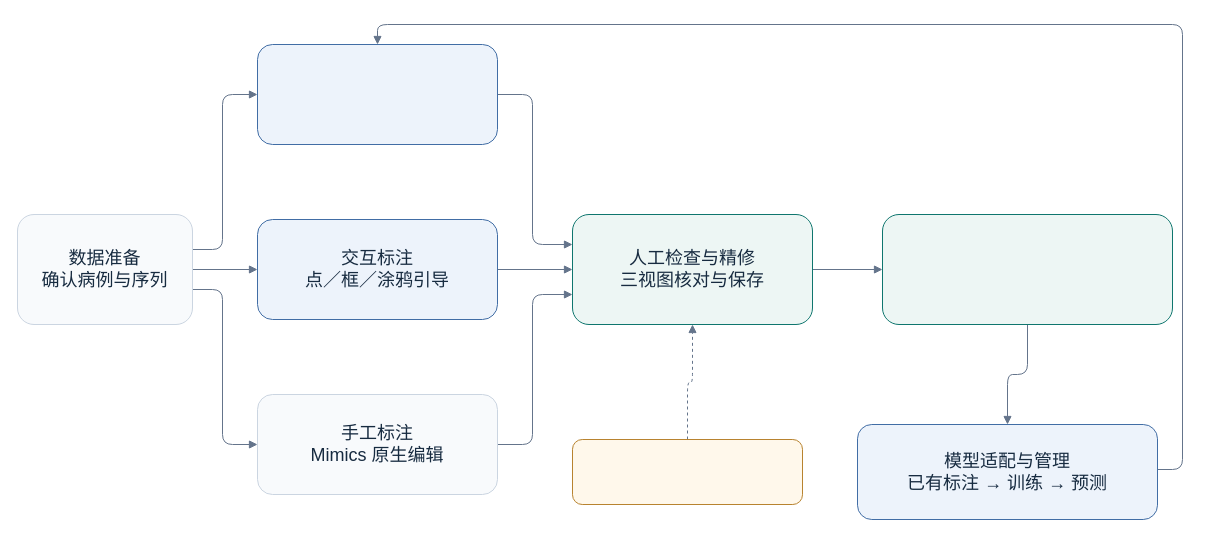
Image size: 1208x537. Some labels were removed from this diagram. The centre of each missing label's shape, as x and y in pixels:
"完善复核与训练准入" belongs at point (687, 471).
"批量草稿 适用模型自动预测" belongs at point (377, 94).
"确认后导出与复用 标签标准及质量检查" belongs at point (1027, 269).
